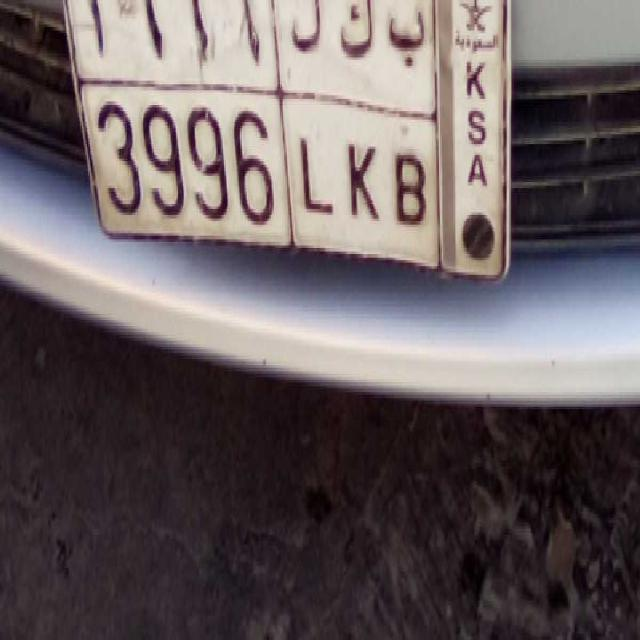license_plate: (81, 69, 433, 275)
